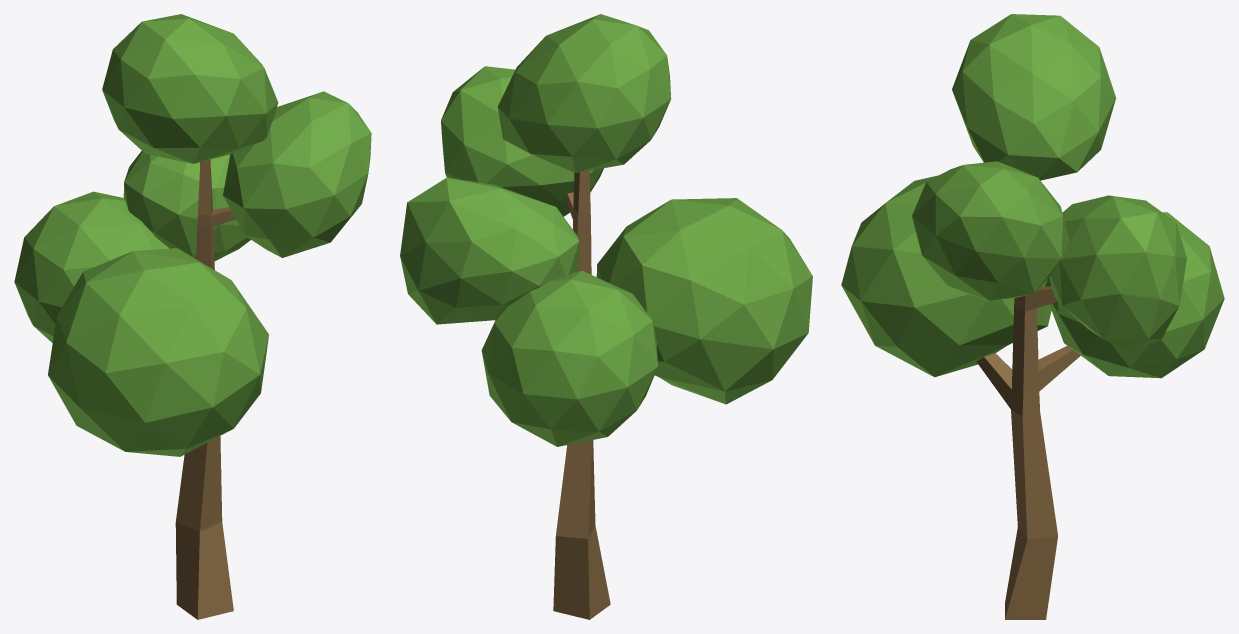
Rendered from forest-oak-b.glb.
The picture shows the model from 3 angles, left to right: view 1: azimuth 30°, elevation 25°; view 2: azimuth 150°, elevation 25°; view 3: azimuth 270°, elevation 25°; orthographic projection. The views are drawn at different scales.
Visible parts, largest first — view 1: OakTree2; view 2: OakTree2; view 3: OakTree2.
Part boxes in pixels (x1,y1,x2,y2): OakTree2: (14,14,371,619); OakTree2: (400,14,812,619); OakTree2: (841,14,1224,619).
Bounding box in the file's own units: 4.27 × 7.63 × 4.58.
